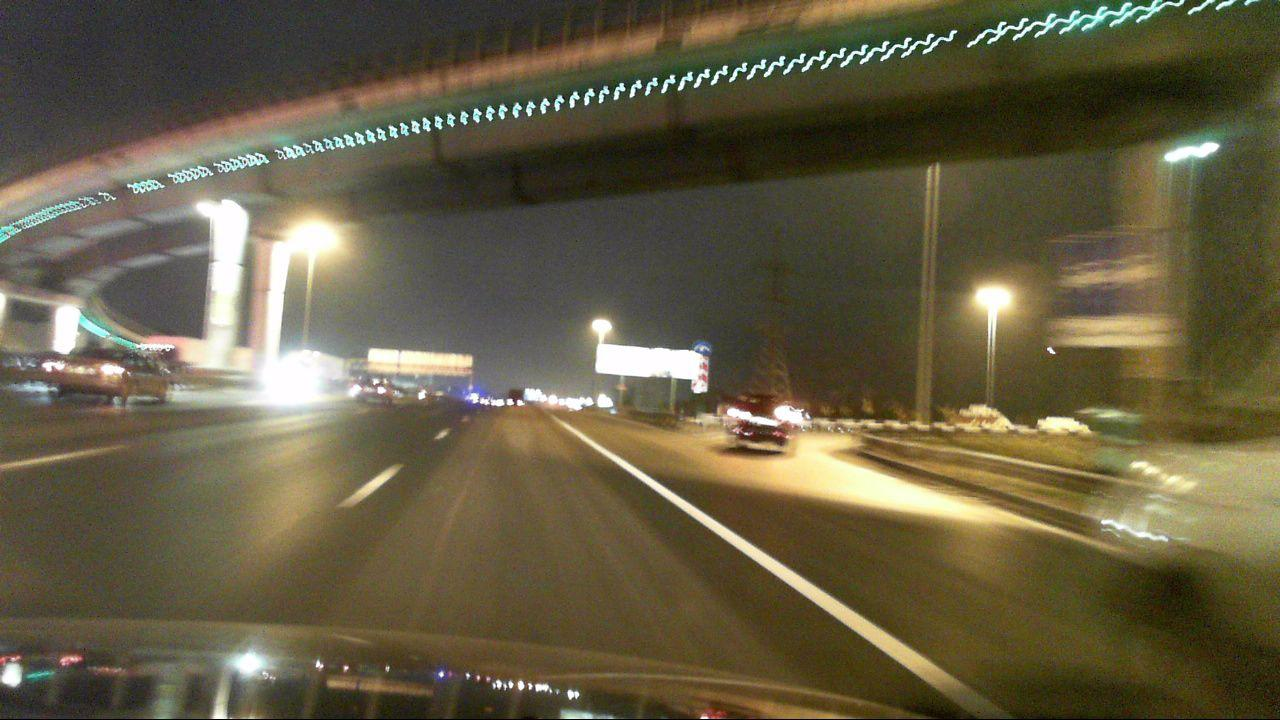5_3: (1051, 234, 1117, 317)
